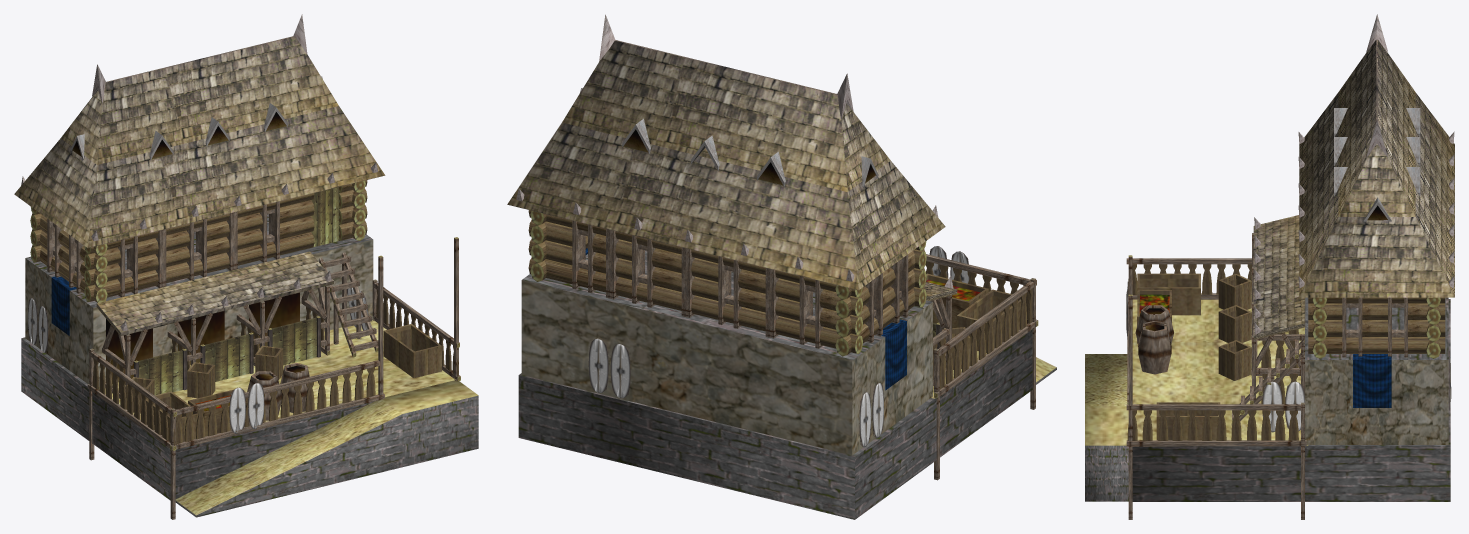
The model's file is stable.dae.
3 renders of one model, left to right at view 1: azimuth 30°, elevation 25°; view 2: azimuth 150°, elevation 25°; view 3: azimuth 270°, elevation 25°, orthographic. The views are drawn at different scales.
Parts seen in each view (by area): view 1: stable; view 2: stable; view 3: stable.
Part boxes in pixels (x1=…): stable: x1=14, y1=14, x2=478, y2=519; stable: x1=507, y1=14, x2=1056, y2=519; stable: x1=1085, y1=14, x2=1454, y2=519.
Size of the model in its own units: 19.5 by 19.85 by 22.51.
